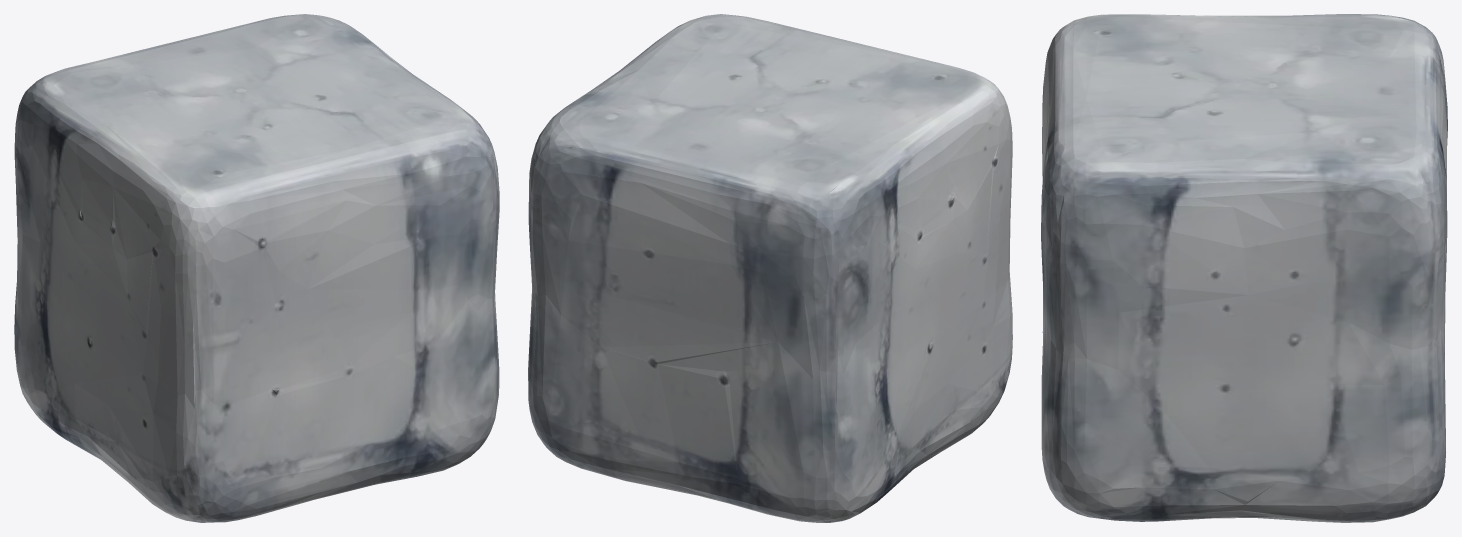
The model's file is ice.glb.
3 renders of one model, left to right at view 1: azimuth 30°, elevation 25°; view 2: azimuth 150°, elevation 25°; view 3: azimuth 270°, elevation 25°, orthographic. The views are drawn at different scales.
Parts seen in each view (by area): view 1: geometry_0; view 2: geometry_0; view 3: geometry_0.
Boxes of the visible parts, box(x1,y1,x2,y2) form: geometry_0: box(14, 14, 499, 522); geometry_0: box(528, 14, 1012, 522); geometry_0: box(1041, 14, 1447, 522).
Size of the model in its own units: 0.4894 by 0.4866 by 0.4876.
Materials: 1 (1 with a texture image).
